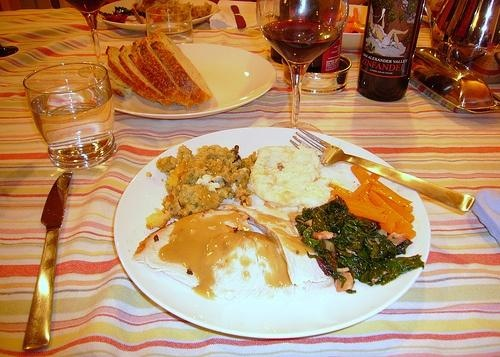bottle: (358, 2, 426, 103)
